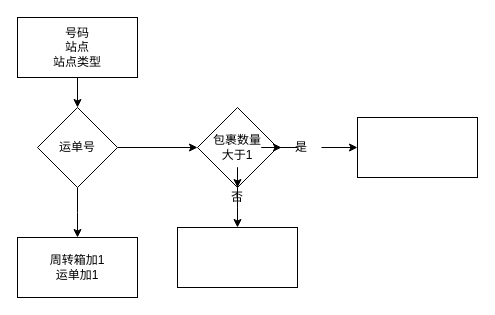
Image size: 495x315. Some labels were removed from this diagram. The shapes that lost their labels are listed below. From the top down, each one's centre as x and y in pixels, then its label:
At [417,147]: "周转x".
At [237,257]: "周转箱加1 运单加n".
